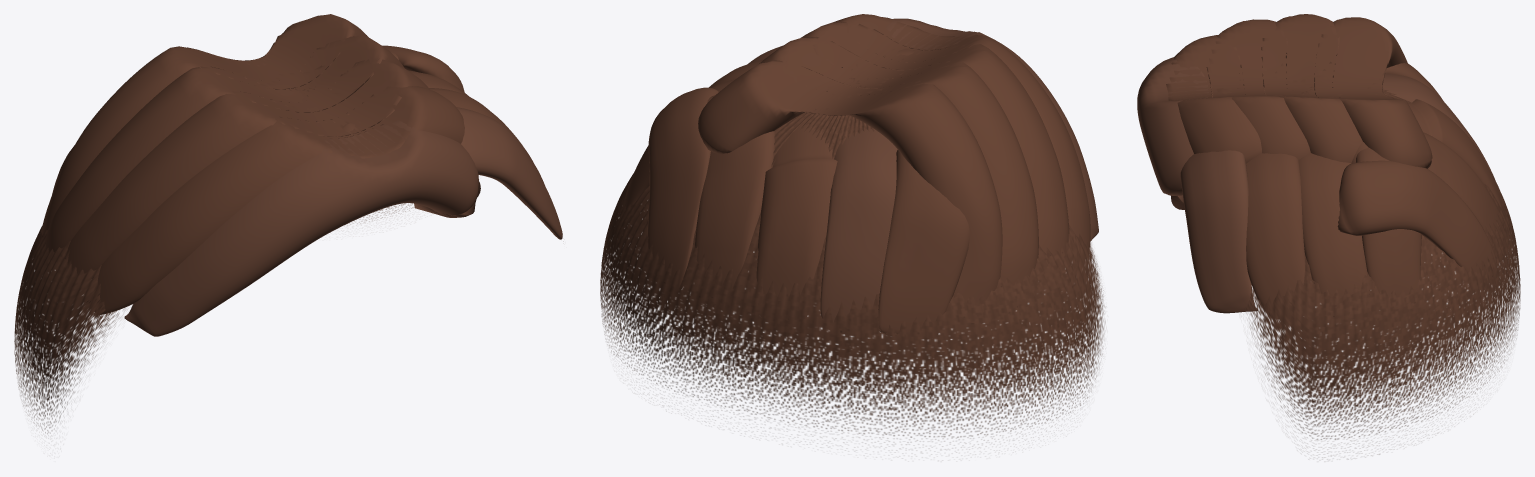
The model's file is Masculine-taper-cowboy256-hair.glb.
3 views of the same model, side by side, from view 1: azimuth 30°, elevation 25°; view 2: azimuth 150°, elevation 25°; view 3: azimuth 270°, elevation 25° (orthographic). The views are drawn at different scales.
Parts seen in each view (by area): view 1: 226 hair / Hair252 / sculpted locks, 226 hair / Hair252 / gentle tonal variation, 226 hair / Hair256 / selected B sides; view 2: 226 hair / Hair252 / sculpted locks, 226 hair / Hair256 / selected B sides, 226 hair / Hair252 / gentle tonal variation; view 3: 226 hair / Hair252 / sculpted locks, 226 hair / Hair256 / selected B sides, 226 hair / Hair252 / gentle tonal variation.
Part boxes in pixels (left/top/right/bottom): 226 hair / Hair252 / sculpted locks: left=40, top=14, right=544, bottom=314; 226 hair / Hair252 / gentle tonal variation: left=124, top=107, right=562, bottom=336; 226 hair / Hair256 / selected B sides: left=14, top=83, right=420, bottom=433; 226 hair / Hair252 / sculpted locks: left=623, top=14, right=1090, bottom=336; 226 hair / Hair256 / selected B sides: left=600, top=78, right=1105, bottom=446; 226 hair / Hair252 / gentle tonal variation: left=748, top=18, right=1098, bottom=334; 226 hair / Hair252 / sculpted locks: left=1166, top=14, right=1505, bottom=318; 226 hair / Hair256 / selected B sides: left=1246, top=86, right=1520, bottom=459; 226 hair / Hair252 / gentle tonal variation: left=1137, top=57, right=1494, bottom=313.
Size of the model in its own units: 0.972 by 0.648 by 0.7438.
3 materials, 1 textured.
